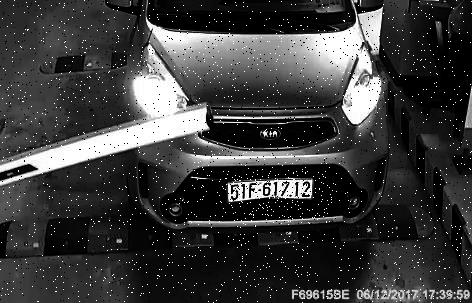License-plate: (223, 172, 334, 223)
